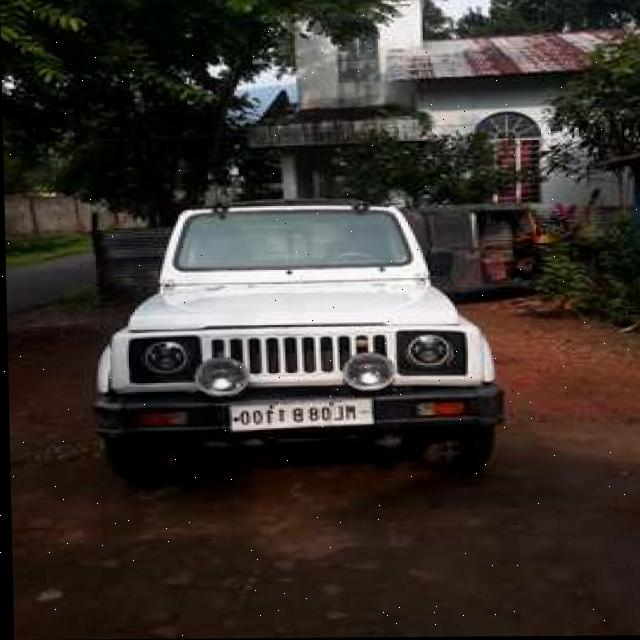plate: (226, 397, 373, 431)
